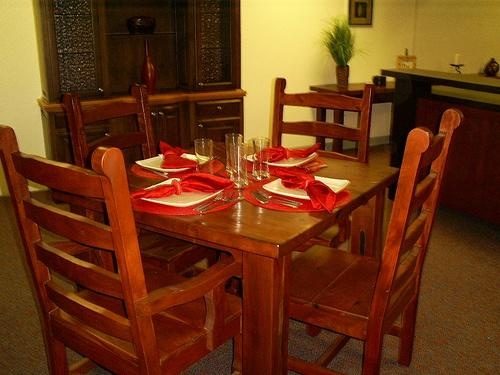chair: (1, 127, 243, 375), (284, 107, 464, 372), (270, 76, 374, 162), (61, 85, 160, 167)
diningtable: (53, 139, 404, 375)
pottedplant: (327, 20, 357, 91)
